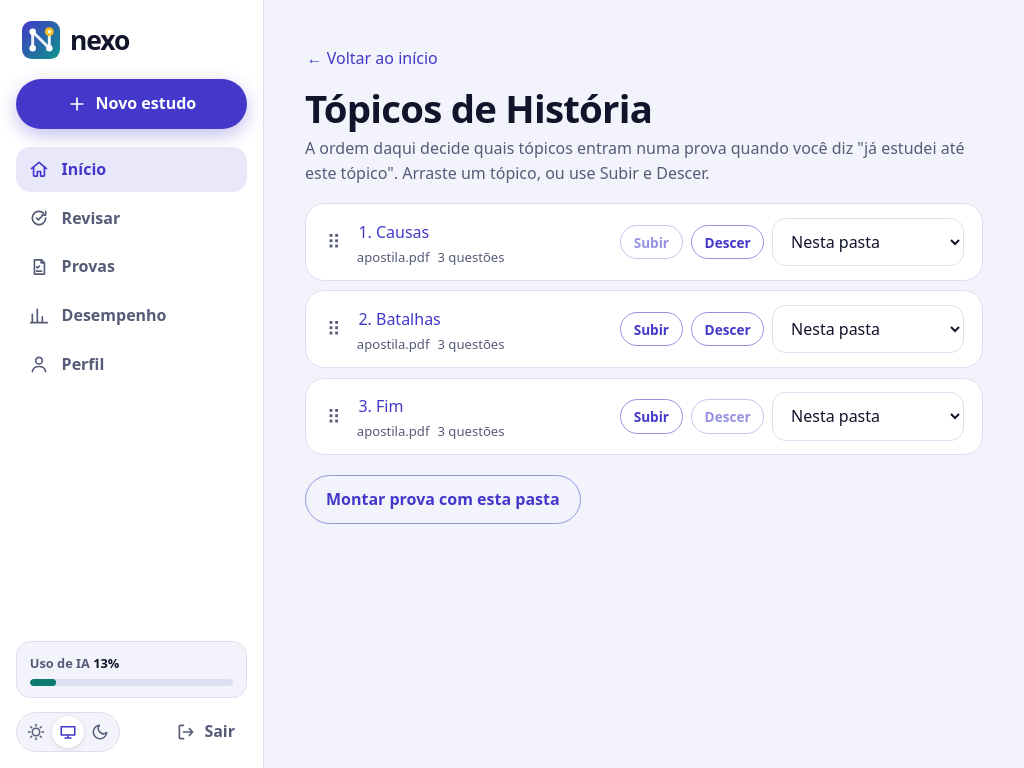
Test: lista os tópicos da pasta e Subir e Descer gravam a ordem
Expected: the heading "Tópicos de História" is shown, [305, 82, 652, 134]
Expected: the button with aria-label "Subir Causas" is disabled, [620, 225, 683, 259]
Click the button with aria-label "Descer Causas". click: (728, 242)
box: [691, 225, 764, 259]
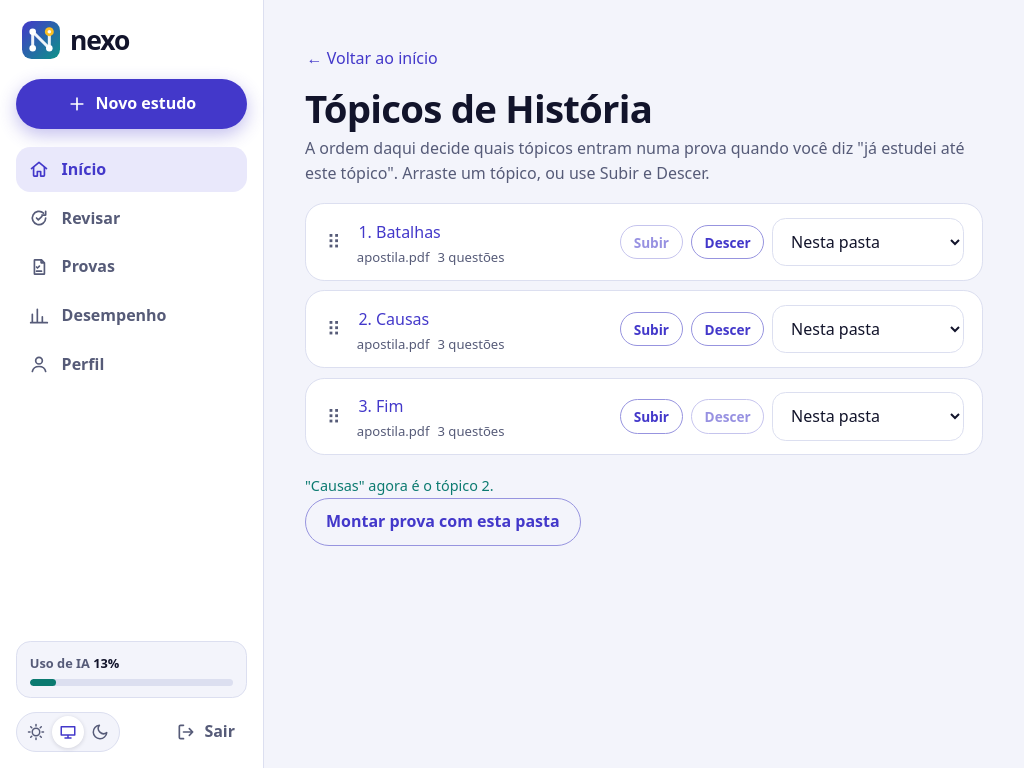
Result: the text "\"Causas\" agora é o tópico 2." is shown at [305, 476, 494, 495]
